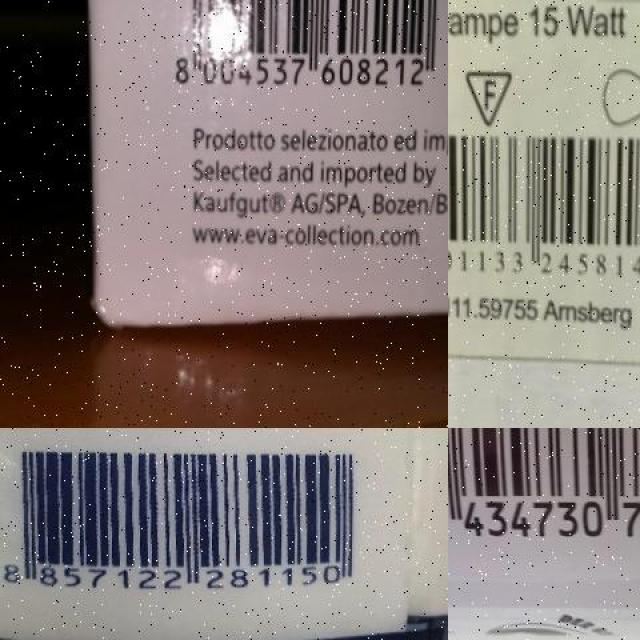Barcode: (0, 432, 368, 599), (448, 120, 640, 288), (162, 0, 448, 105), (448, 428, 640, 580)
